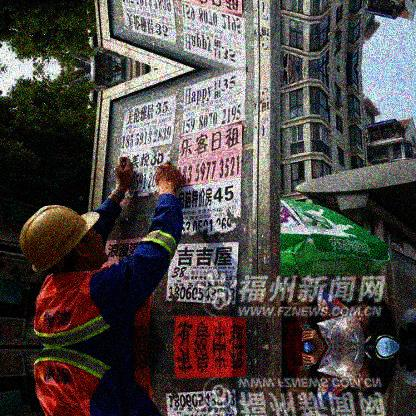helmet: (20, 201, 107, 276)
